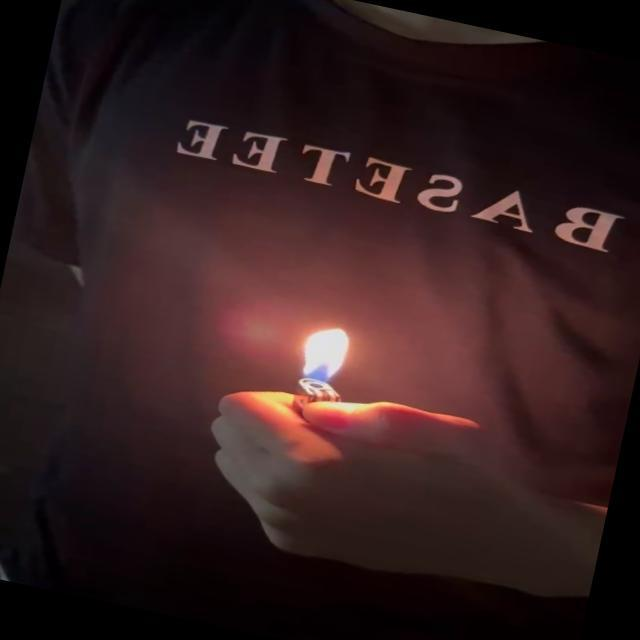Fire: (292, 318, 354, 389)
